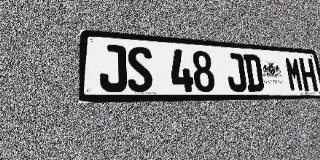4: (169, 49, 194, 92)
8: (191, 50, 215, 92)
D: (243, 54, 265, 92)
H: (299, 58, 318, 91)
J: (99, 44, 127, 92), (225, 53, 247, 92)
M: (284, 57, 304, 91)
S: (127, 46, 153, 92)
